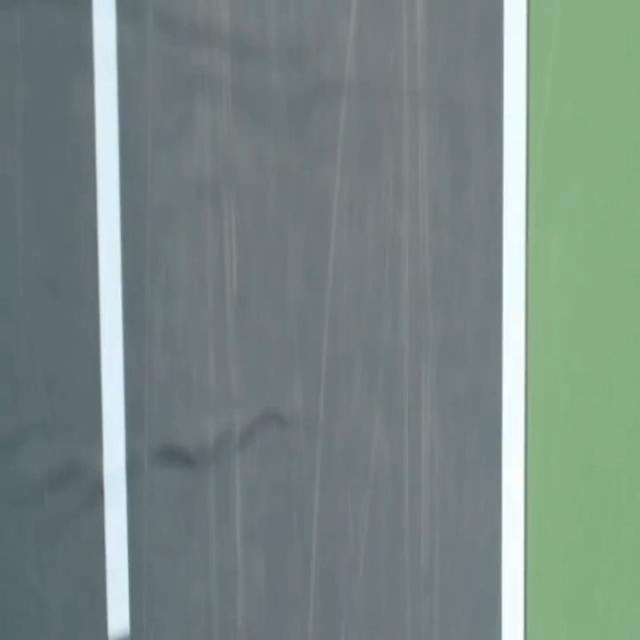center: (92, 0, 130, 639)
right: (501, 0, 527, 639)
